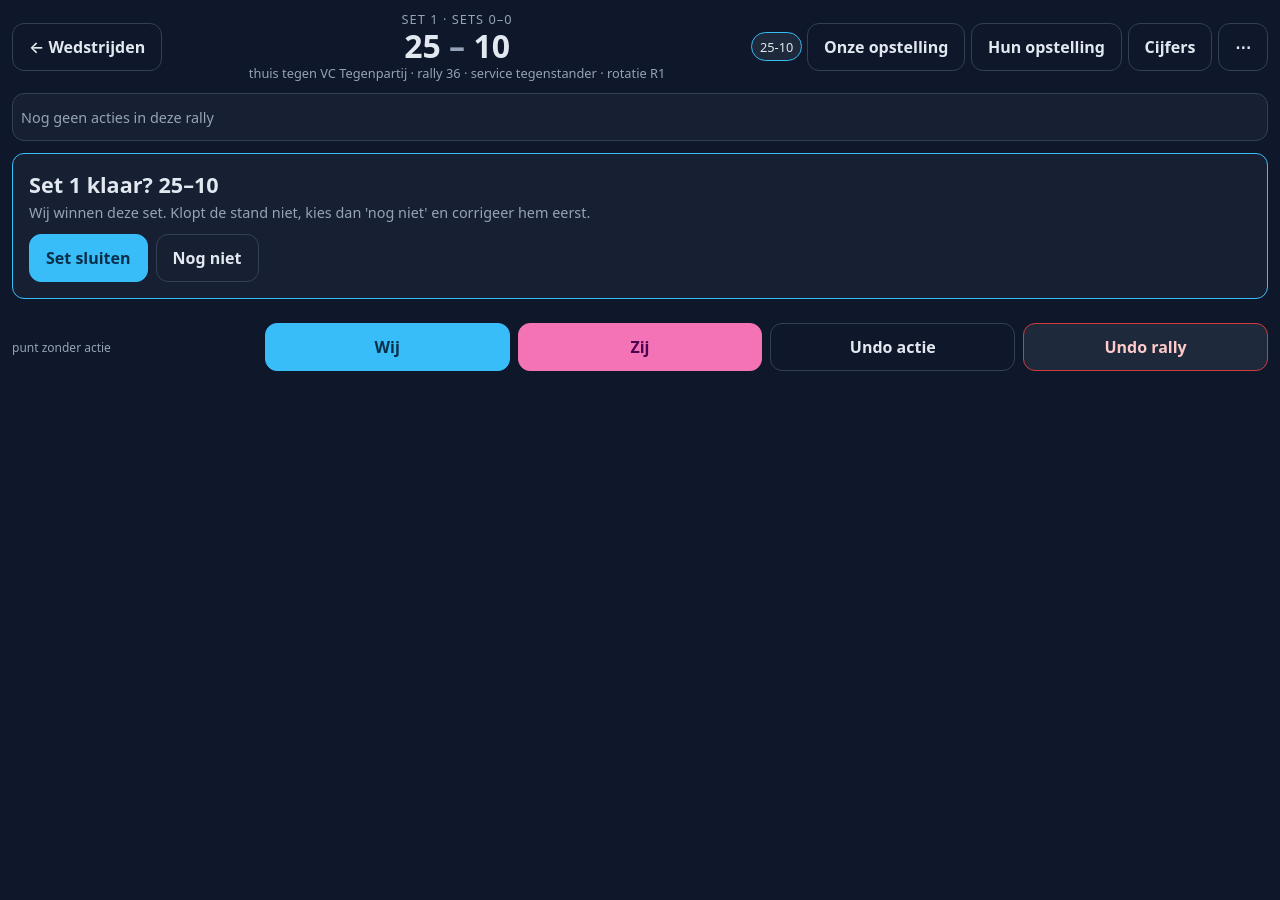
Test: ScoringScreen: setverloop › laat de set met "nog niet" openstaan om de stand te corrigeren
Click the button "Nog niet" at (207, 258), box x1=156 y1=234 x2=258 y2=282
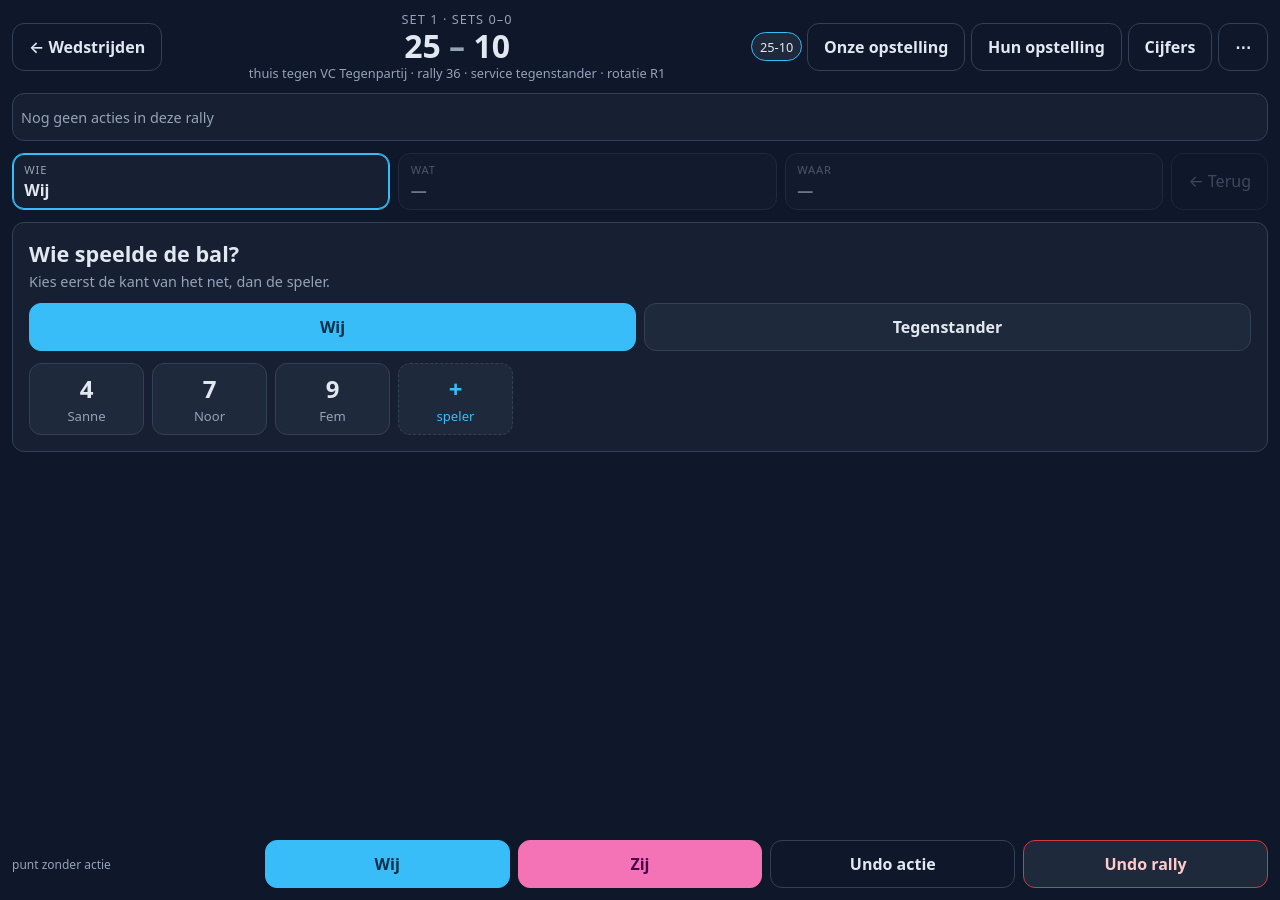
Check: the heading "Wie speelde de bal?" is shown, box x1=29 y1=239 x2=239 y2=268
